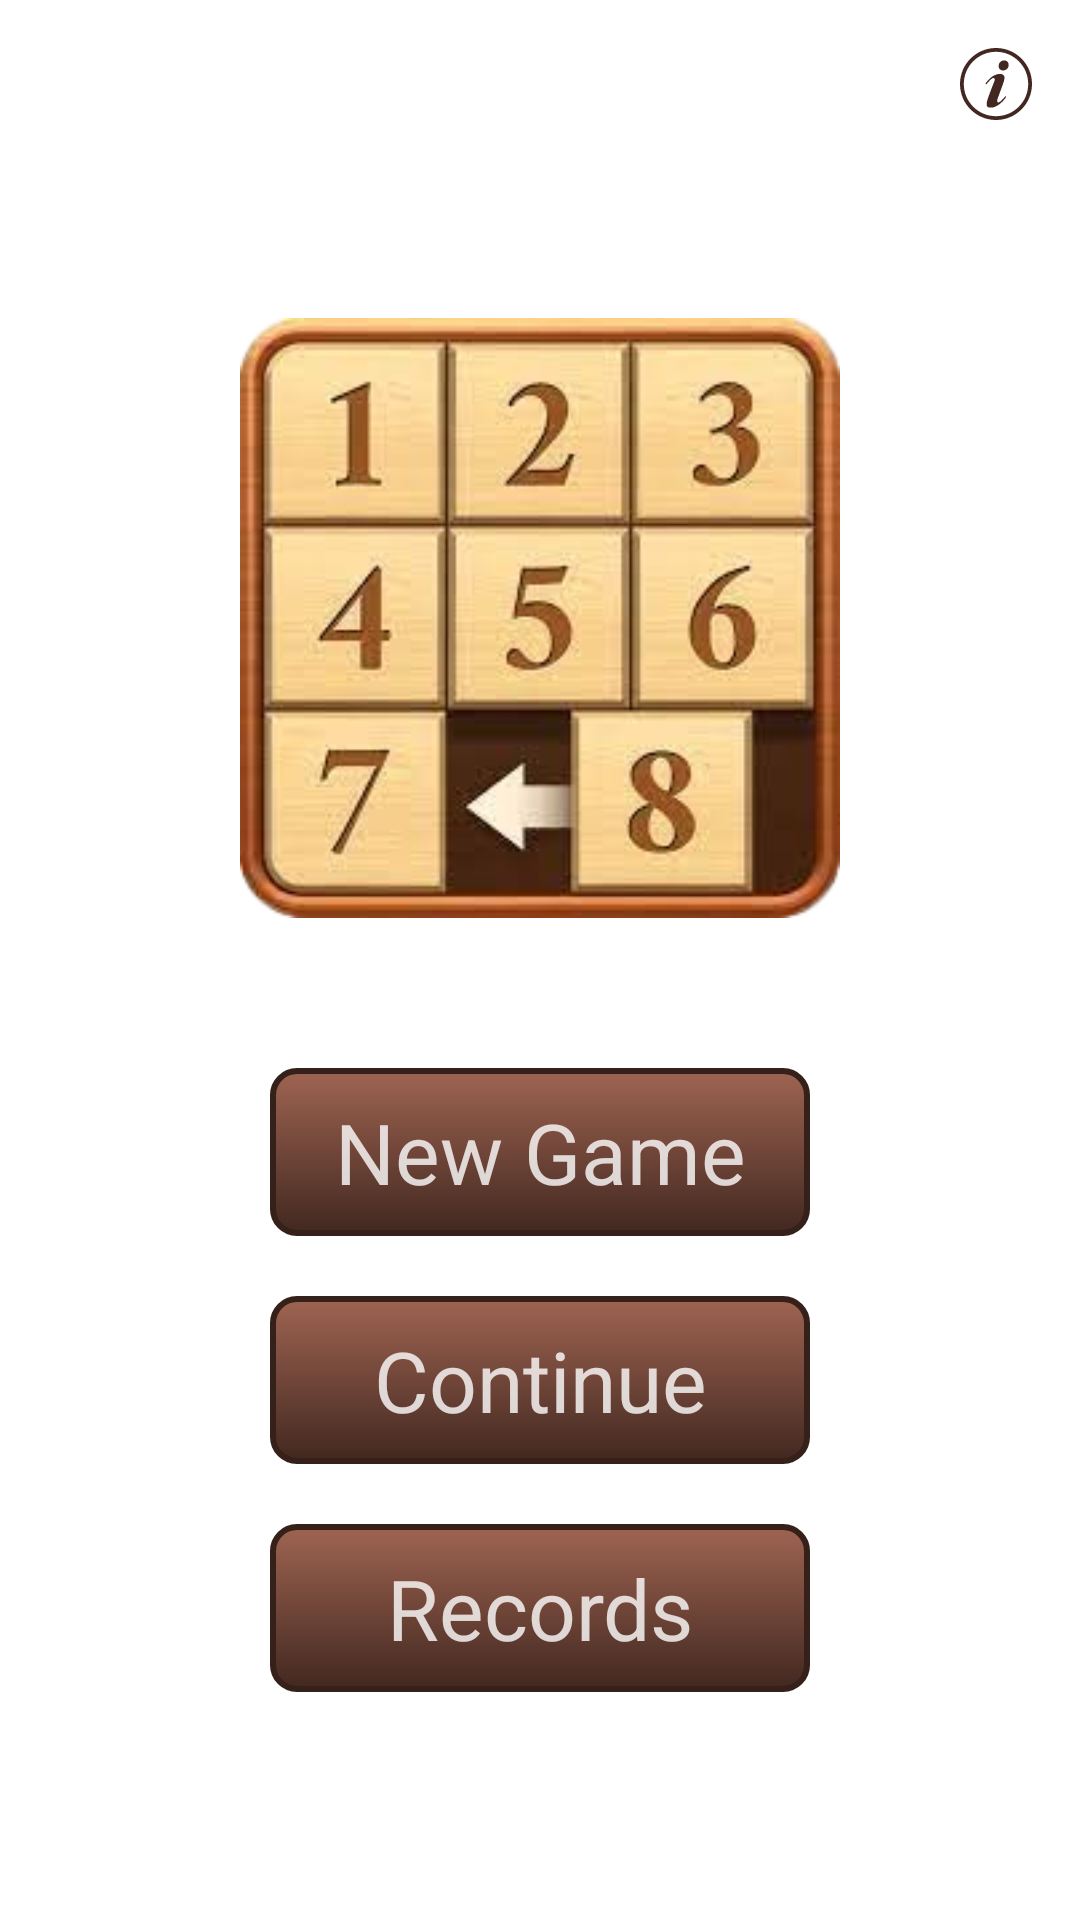

Screen size 1080px x 1920px. Icon name, then its center in pixels as (x=x, y=y):
info: (x=996, y=84)
